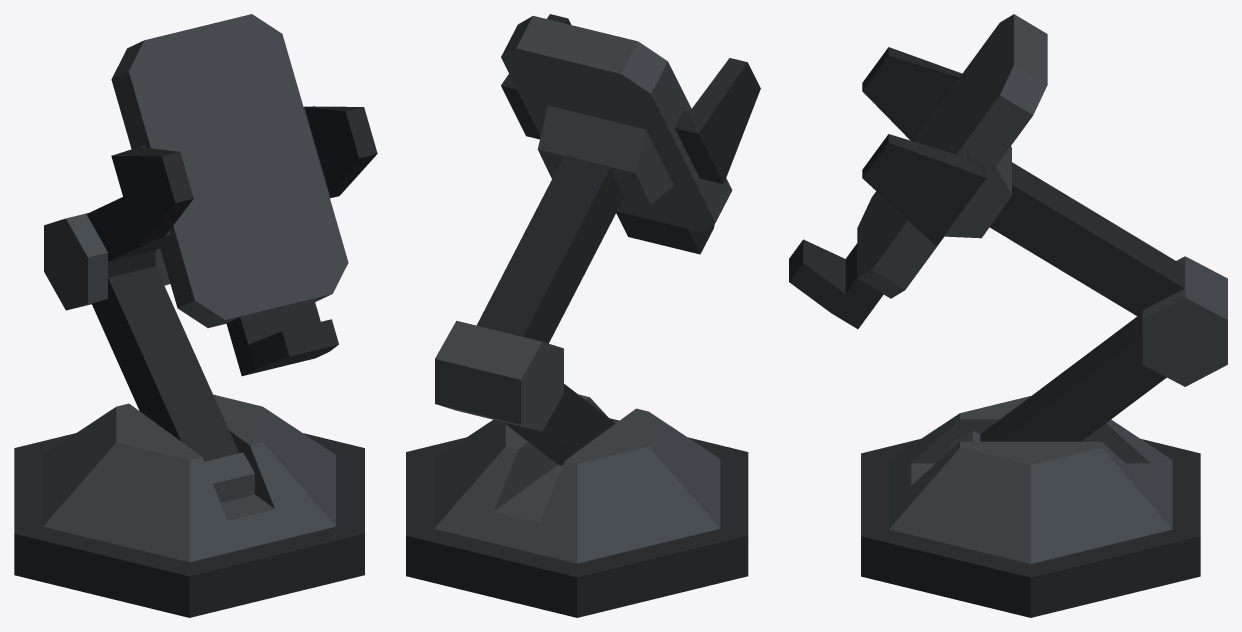
Rendered from SM_Prop_PhoneStand_01.fbx.
3 renders of one model, left to right at view 1: azimuth 30°, elevation 25°; view 2: azimuth 150°, elevation 25°; view 3: azimuth 270°, elevation 25°, orthographic. The views are drawn at different scales.
Visible parts, largest first — view 1: SM_Prop_PhoneStand_01; view 2: SM_Prop_PhoneStand_01; view 3: SM_Prop_PhoneStand_01.
Part boxes in pixels (<box>): SM_Prop_PhoneStand_01: <box>14,14,377,617</box>; SM_Prop_PhoneStand_01: <box>406,14,760,617</box>; SM_Prop_PhoneStand_01: <box>789,14,1227,617</box>.
Bounding box in the file's own units: 18.94 × 26.42 × 21.19.
